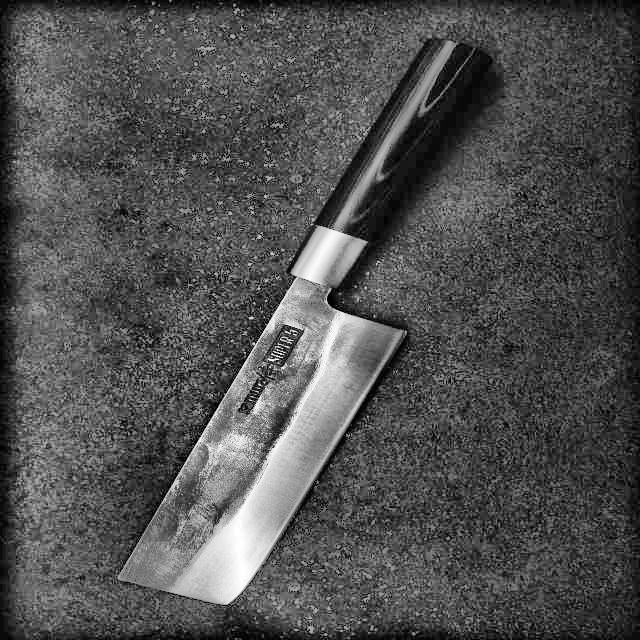knife: (107, 26, 530, 614)
